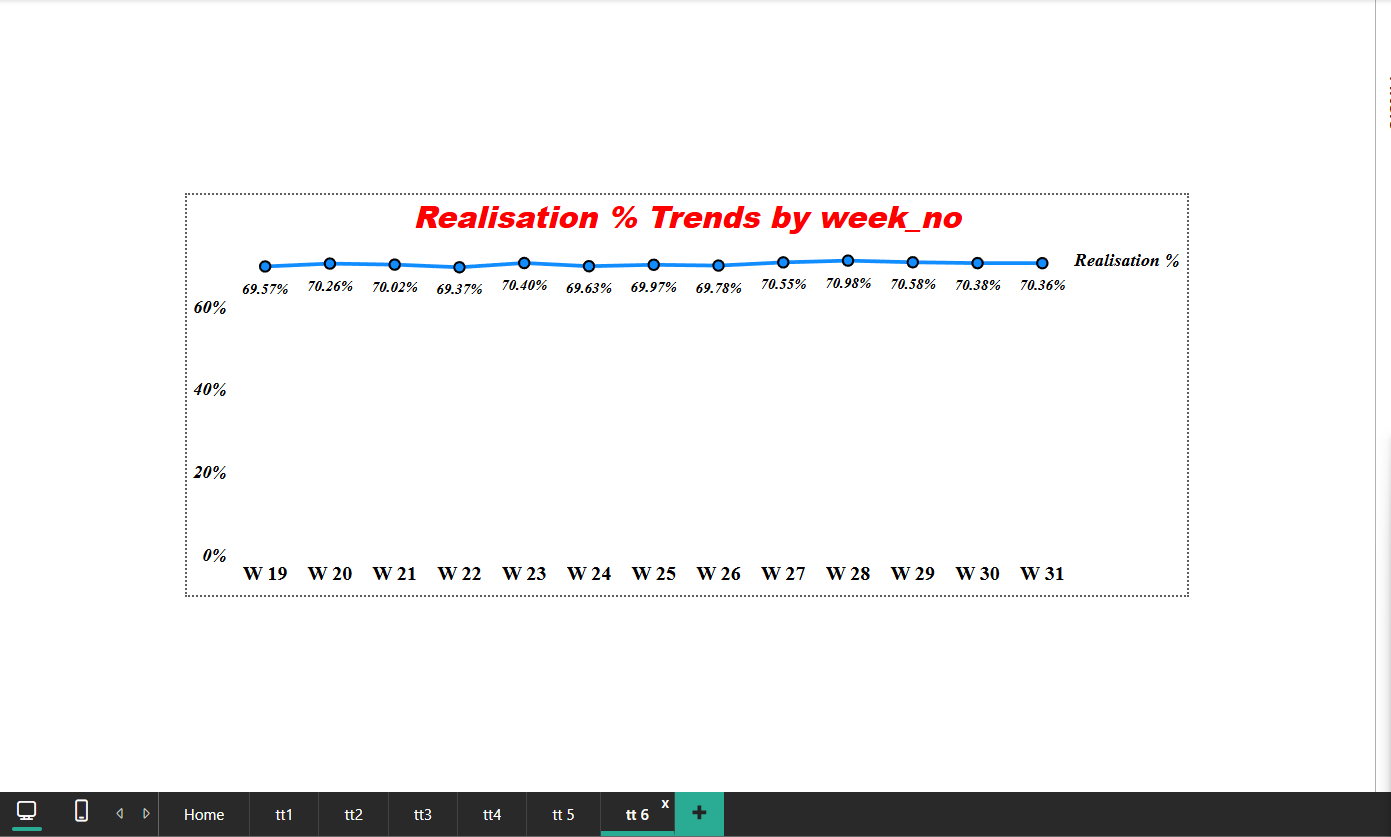

The page's visual inventory and layout, read from the dashboard file:
{"tool":"powerbi","page":{"name":"tt 6","canvas":[800,320],"ordinal":6},"visuals":[{"type":"lineChart","title":"Realisation % Trends by week_no","fields":{"Category":["dim_date.week_no"],"Y":["Imp measures.Realisation %"]},"box":[0,0,800,320],"z":0}]}

Visuals, with their boxes on the page's 800x320 design canvas (x1, y1, x2, y2). These are canvas units, not pixel positions in the 1391x837 screenshot, which may show the page scaled, cropped or inside an application window:
"Realisation % Trends by week_no" lineChart: crop(0, 0, 800, 320)
